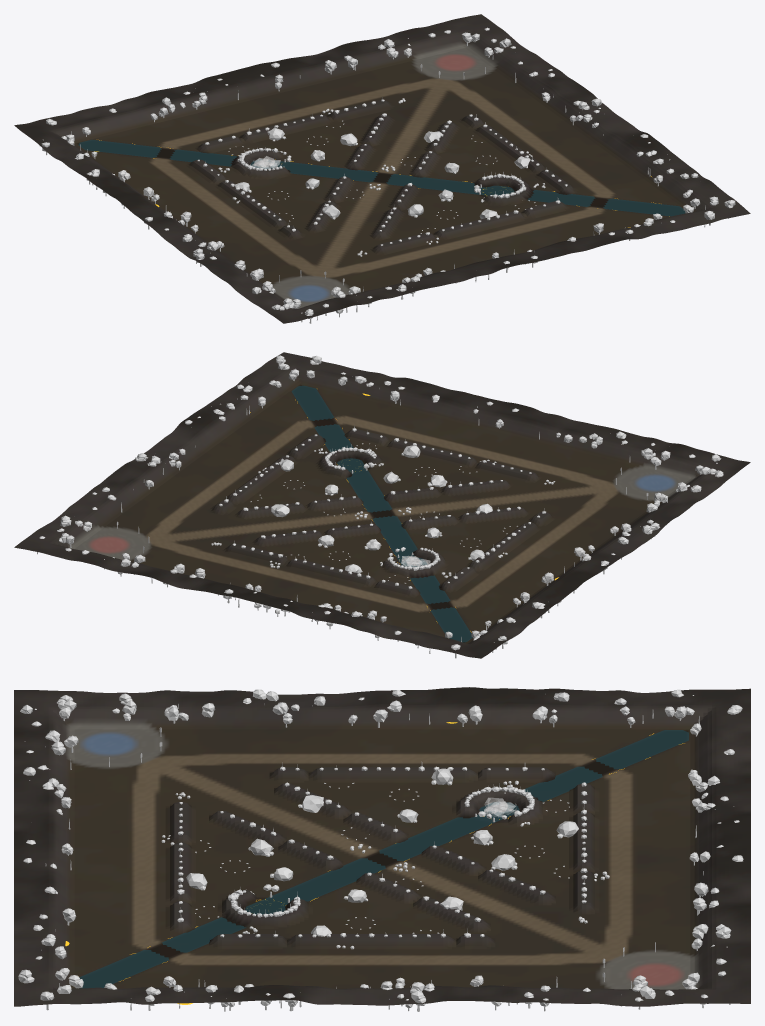
Rendered from map_grieta_ceniza.glb.
3 views of the same model, one above another, from view 1: azimuth 30°, elevation 25°; view 2: azimuth 150°, elevation 25°; view 3: azimuth 270°, elevation 25° (orthographic). The views are drawn at different scales.
Parts seen in each view (by area): view 1: grieta_ceniza_terreno, grieta_ceniza_decorado, grieta_ceniza_agua; view 2: grieta_ceniza_terreno, grieta_ceniza_decorado, grieta_ceniza_agua; view 3: grieta_ceniza_terreno, grieta_ceniza_decorado, grieta_ceniza_agua.
Part boxes in pixels (bbox=[...]): grieta_ceniza_terreno: bbox=[14, 14, 750, 323]; grieta_ceniza_decorado: bbox=[41, 27, 735, 323]; grieta_ceniza_agua: bbox=[78, 139, 685, 216]; grieta_ceniza_terreno: bbox=[14, 352, 750, 658]; grieta_ceniza_decorado: bbox=[37, 355, 723, 658]; grieta_ceniza_agua: bbox=[291, 385, 472, 642]; grieta_ceniza_terreno: bbox=[14, 687, 750, 1006]; grieta_ceniza_decorado: bbox=[18, 689, 743, 1011]; grieta_ceniza_agua: bbox=[79, 730, 688, 988].
Size of the model in its own units: 170 by 6.66 by 170.
